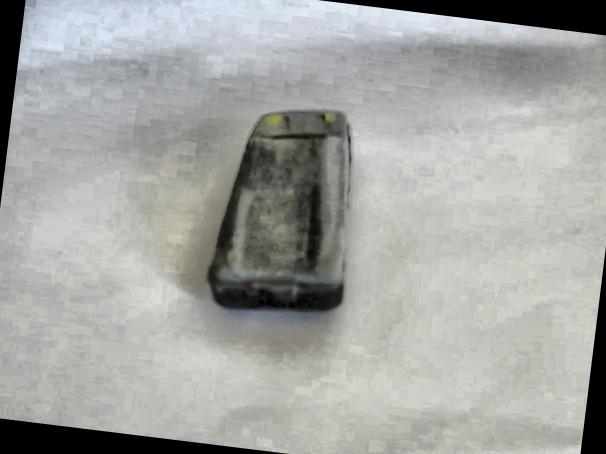normal_car: (201, 94, 370, 326)
